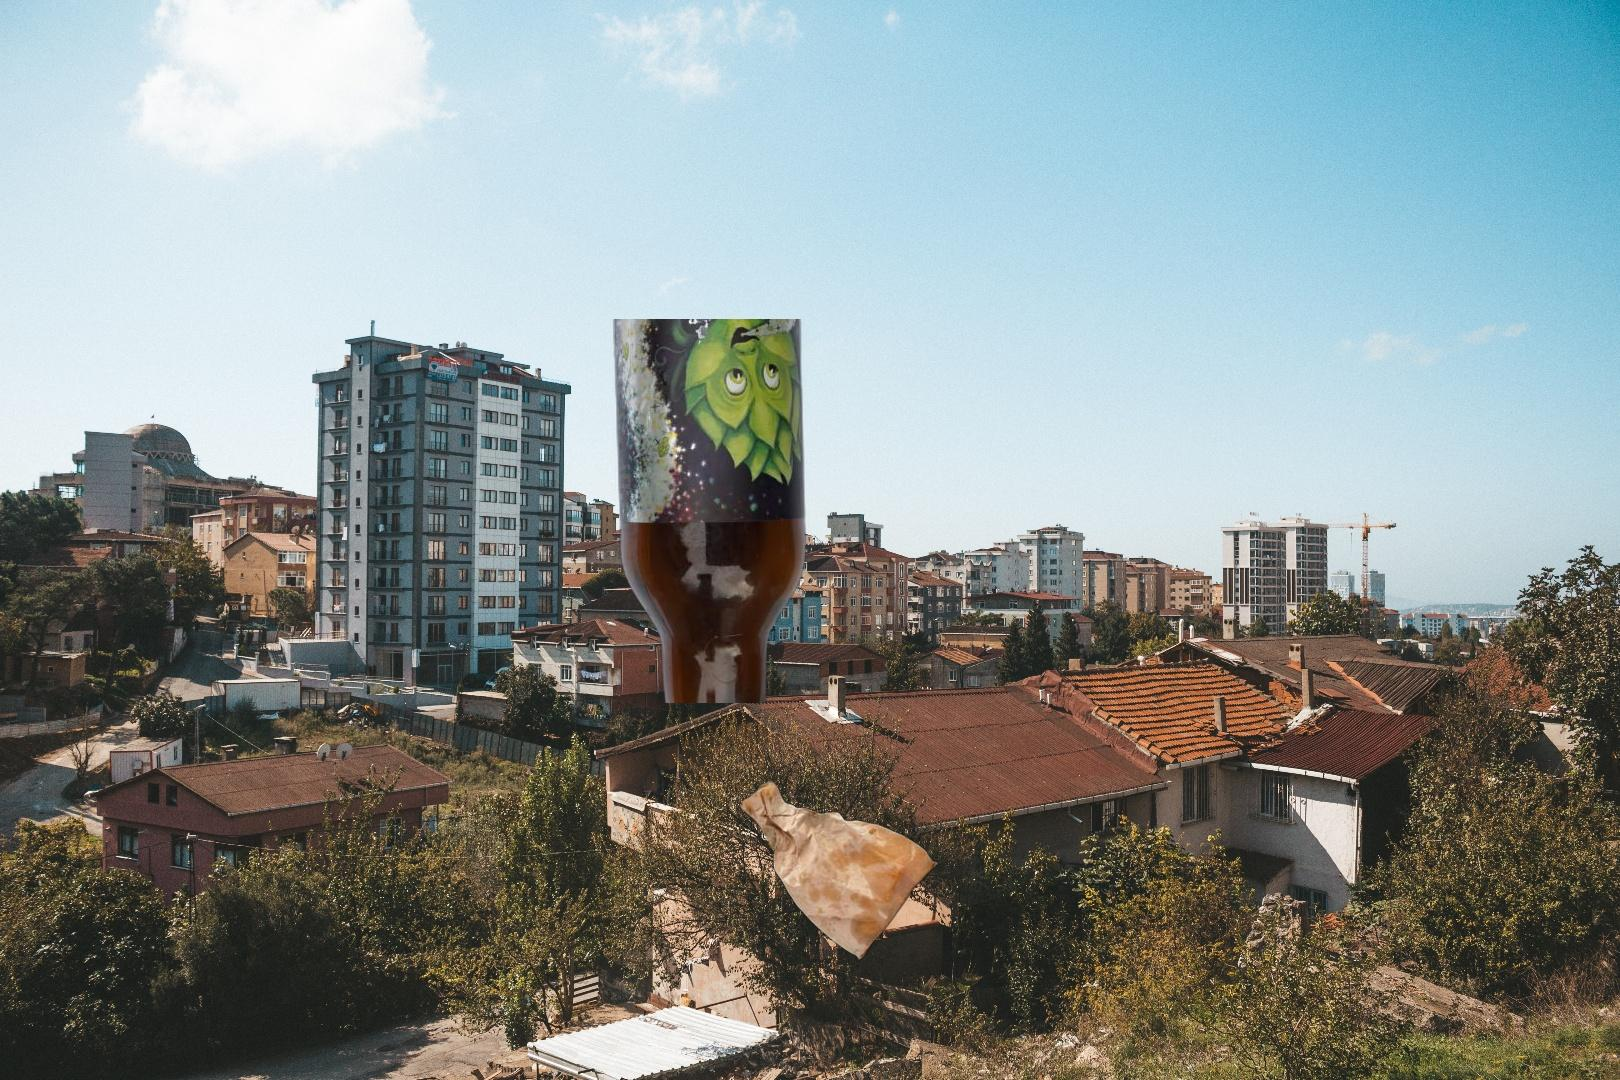glass: (610, 319, 811, 703)
paper-bag: (738, 776, 941, 963)
